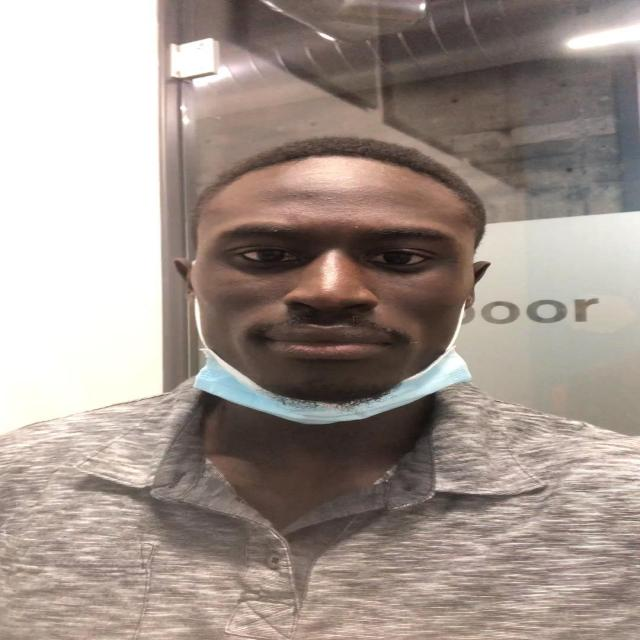face: (188, 152, 484, 402)
